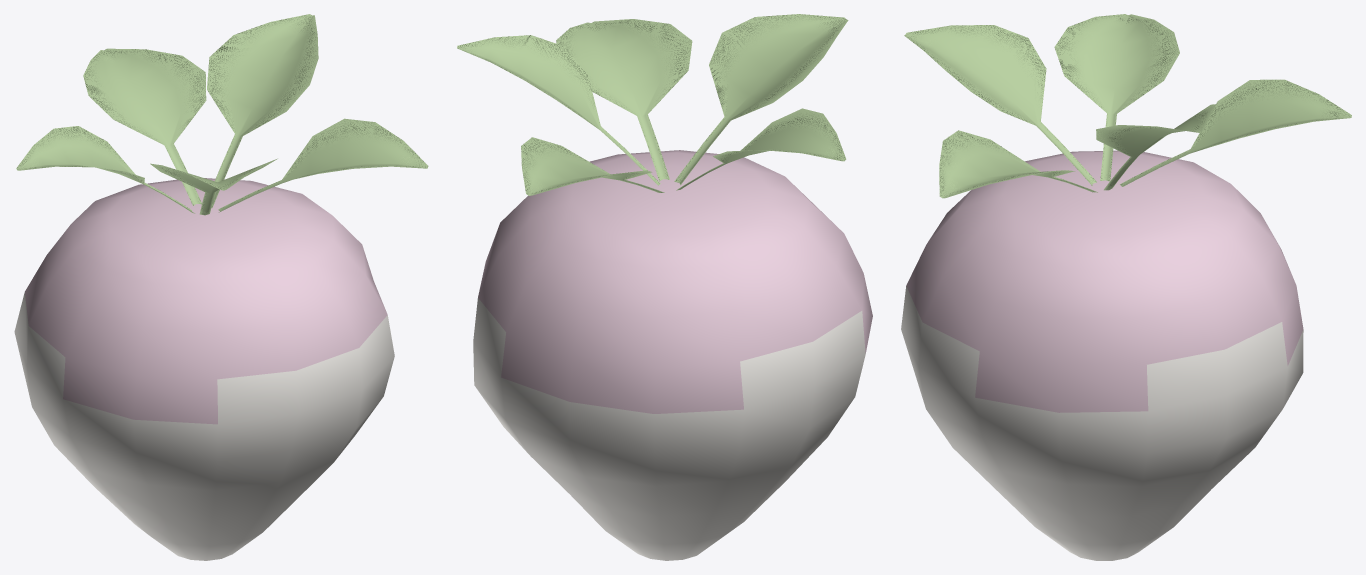
The model's file is RainTurnip_Item.fbx.
3 renders of one model, left to right at view 1: azimuth 30°, elevation 25°; view 2: azimuth 150°, elevation 25°; view 3: azimuth 270°, elevation 25°, orthographic. The views are drawn at different scales.
Parts seen in each view (by area): view 1: RainTurnip_Item; view 2: RainTurnip_Item; view 3: RainTurnip_Item.
Boxes of the visible parts, <box> form: RainTurnip_Item: <box>14,14,428,560</box>; RainTurnip_Item: <box>457,14,872,560</box>; RainTurnip_Item: <box>901,14,1351,560</box>.
Bounding box in the file's own units: 0.2762 × 0.3716 × 0.3003.
